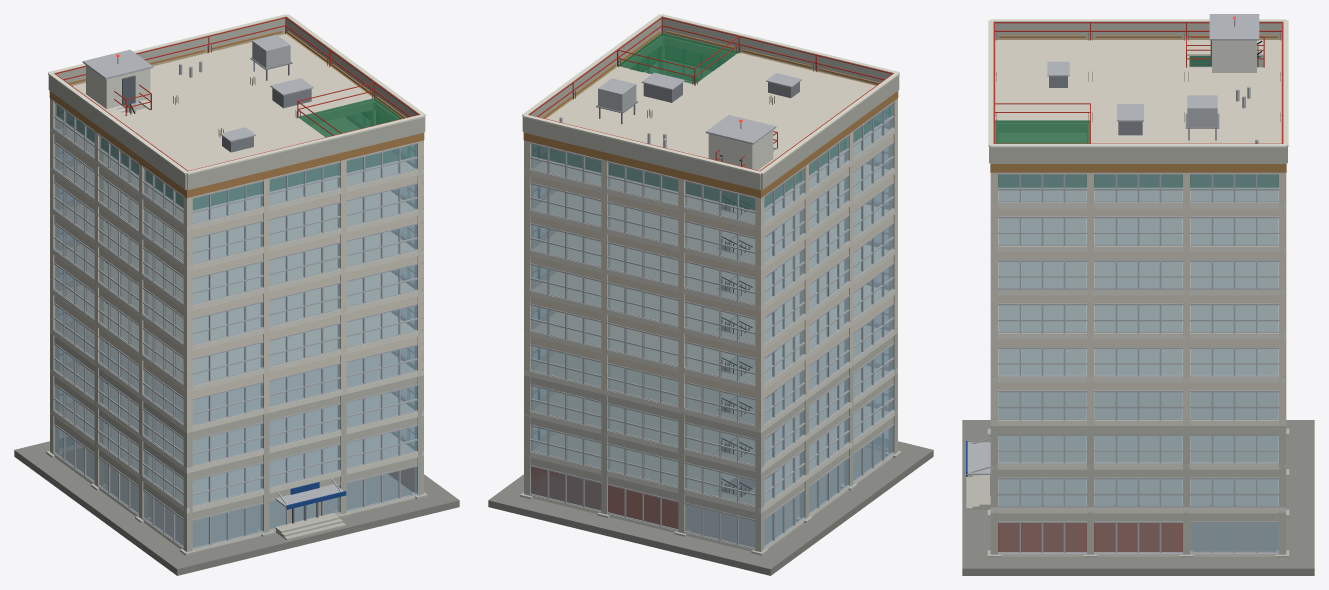
The model's file is building_frame_plus.glb.
The picture shows the model from 3 angles, left to right: view 1: azimuth 30°, elevation 25°; view 2: azimuth 150°, elevation 25°; view 3: azimuth 270°, elevation 25°; orthographic projection. The views are drawn at different scales.
Parts seen in each view (by area): view 1: BuildingFramePlus; view 2: BuildingFramePlus; view 3: BuildingFramePlus.
Part boxes in pixels (x1,y1,x2,y2): BuildingFramePlus: (14,14,459,575); BuildingFramePlus: (488,14,933,575); BuildingFramePlus: (962,14,1314,575).
Size of the model in its own units: 22 by 30.69 by 22.
